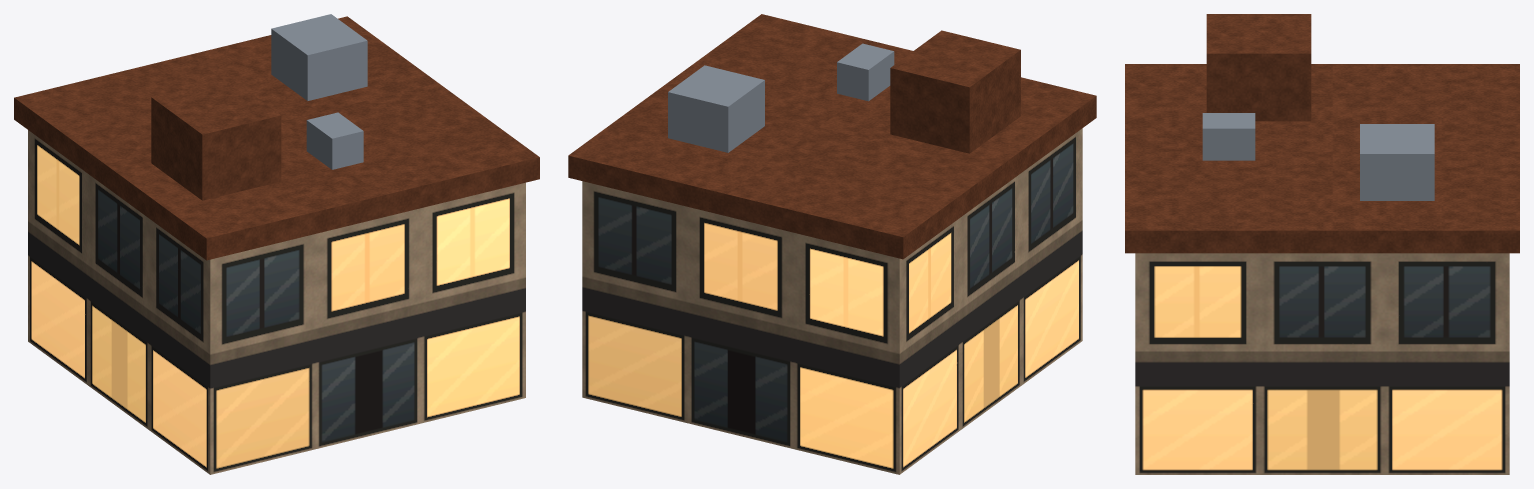
The model's file is casa.glb.
The picture shows the model from 3 angles, left to right: view 1: azimuth 30°, elevation 25°; view 2: azimuth 150°, elevation 25°; view 3: azimuth 270°, elevation 25°; orthographic projection. The views are drawn at different scales.
Parts seen in each view (by area): view 1: frente, cobertura, lados, equipamentos; view 2: frente, cobertura, lados, equipamentos; view 3: lados, cobertura, equipamentos.
Boxes of the visible parts, x1,y1,x2,y2 form: frente: (210, 182, 525, 474); cobertura: (14, 16, 539, 260); lados: (28, 130, 210, 474); equipamentos: (271, 14, 367, 169); frente: (582, 181, 899, 474); cobertura: (568, 14, 1096, 259); lados: (899, 128, 1082, 474); equipamentos: (668, 43, 894, 152); lados: (1135, 253, 1509, 474); cobertura: (1125, 14, 1519, 253); equipamentos: (1202, 113, 1434, 200).
Size of the model in its own units: 3.8 by 3.36 by 3.8.
4 materials, 3 textured.
